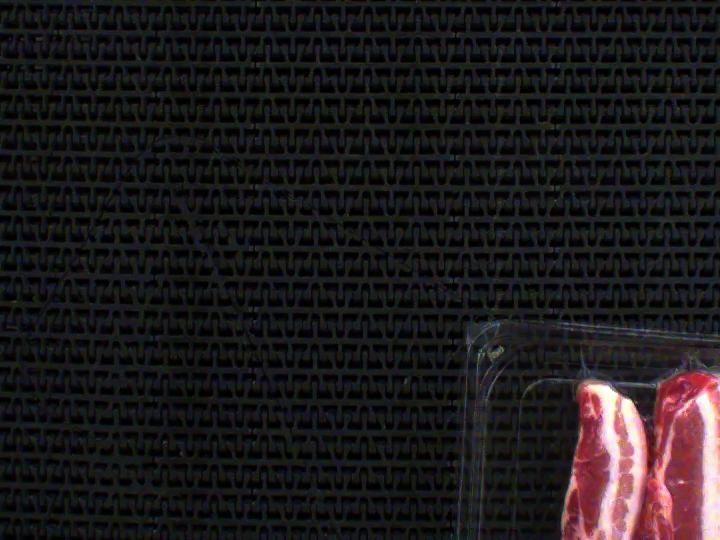packaging-error: (640, 345, 720, 390), (561, 337, 615, 399)
